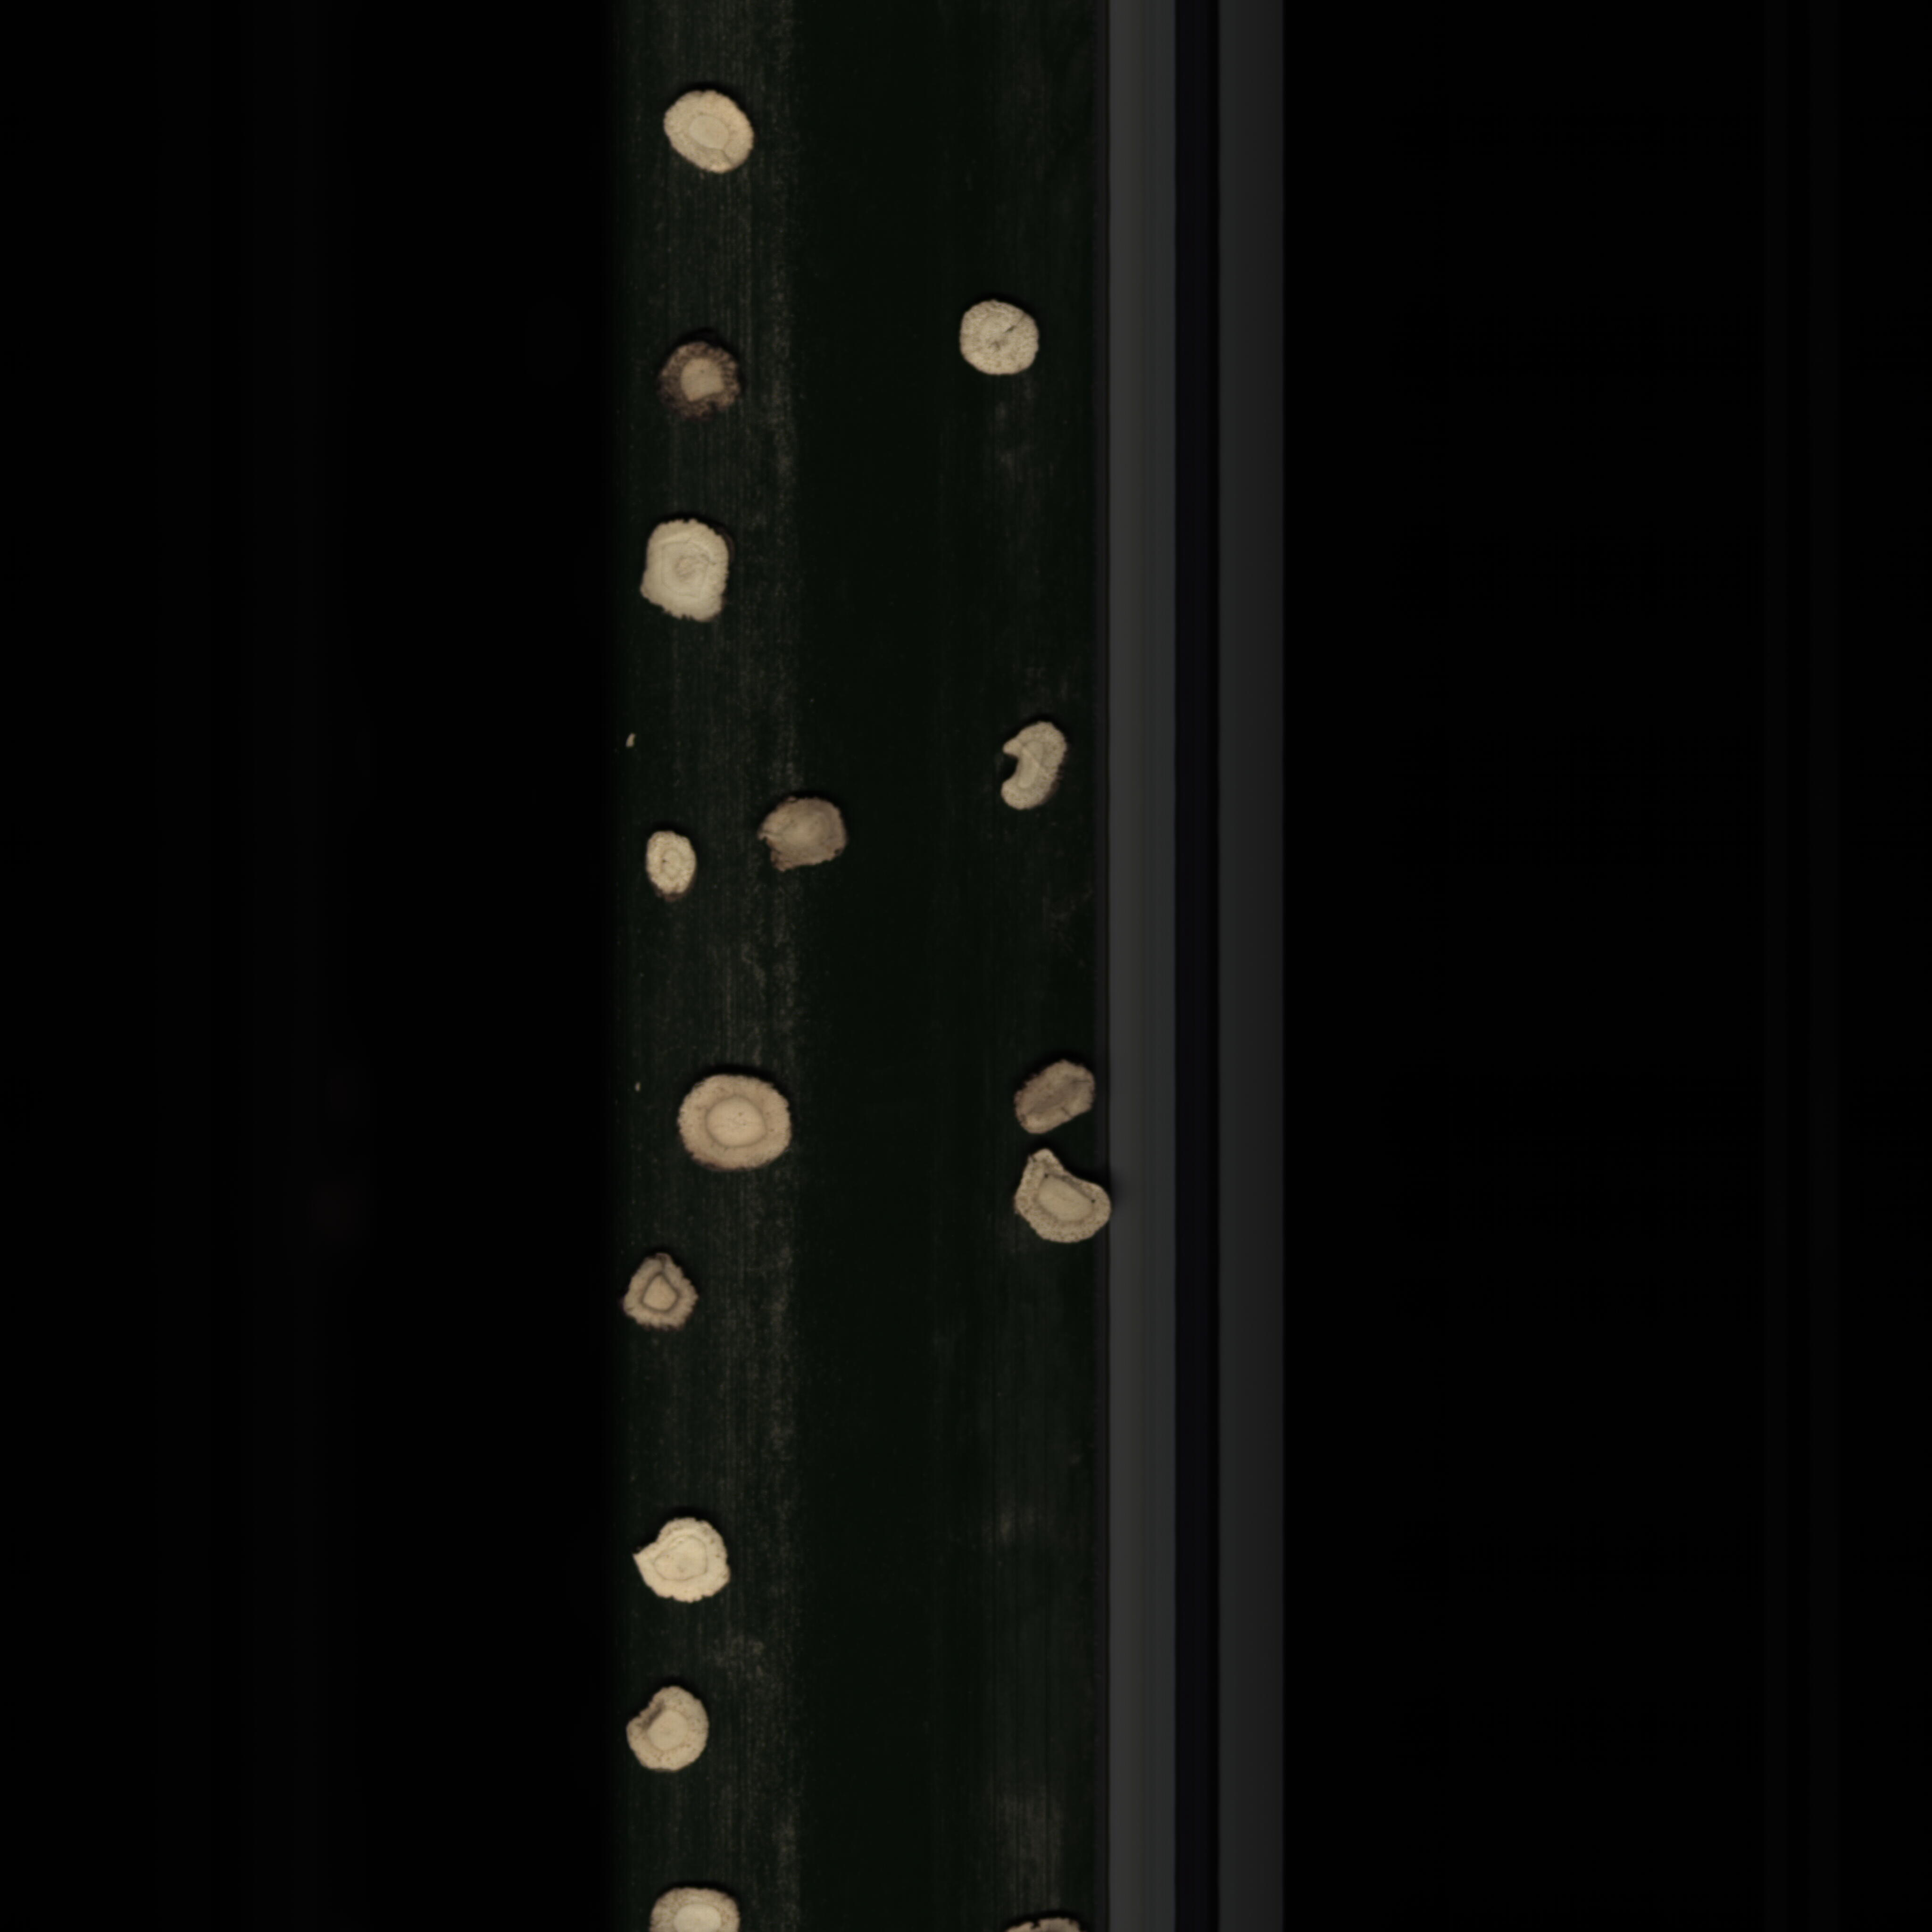distortion: (980, 709, 1072, 833)
moldy: (745, 784, 855, 879), (651, 340, 745, 418), (1012, 1058, 1100, 1139)
